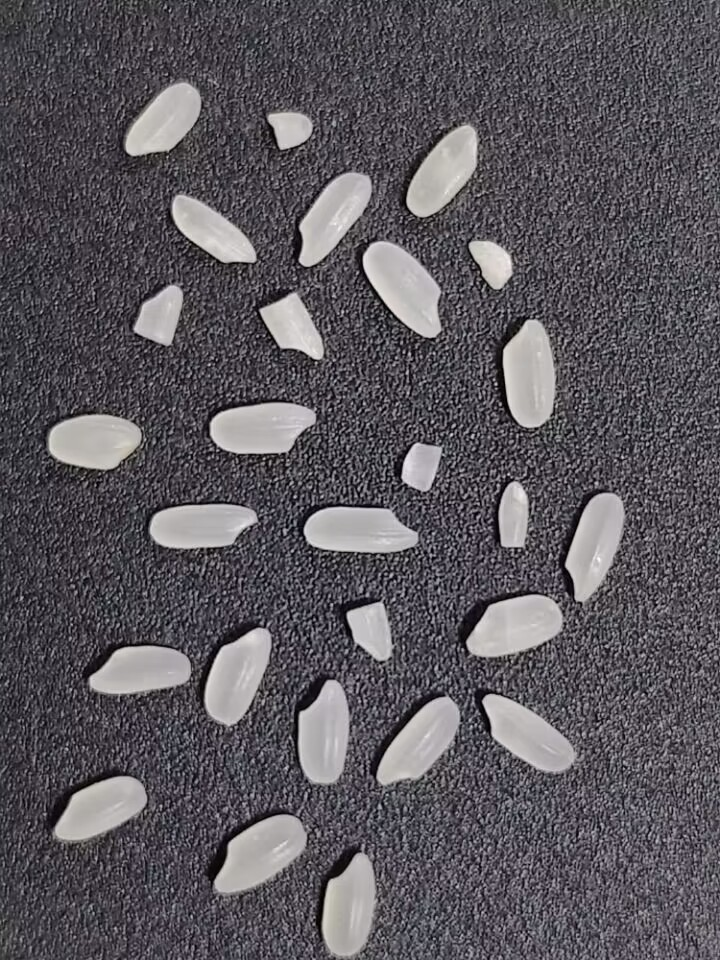broken: (256, 289, 326, 362), (341, 598, 396, 664), (131, 283, 185, 346), (494, 479, 533, 552), (467, 237, 514, 291), (398, 440, 443, 492), (265, 107, 314, 154)
rice: (369, 694, 463, 787), (361, 239, 445, 340), (208, 811, 309, 895), (482, 690, 578, 776), (295, 169, 374, 268), (404, 122, 481, 218), (563, 490, 627, 605), (202, 625, 273, 728), (170, 190, 259, 270), (51, 774, 149, 845), (463, 592, 564, 658), (293, 678, 353, 788), (501, 317, 559, 430), (320, 847, 377, 956), (301, 503, 420, 555), (207, 400, 319, 455), (124, 80, 203, 157), (146, 502, 260, 552), (45, 412, 143, 470), (85, 644, 193, 696)
